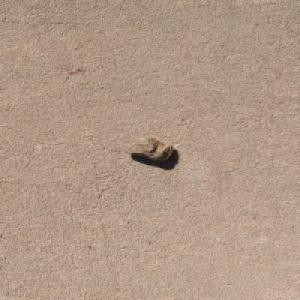Rock: (123, 136, 174, 161)
